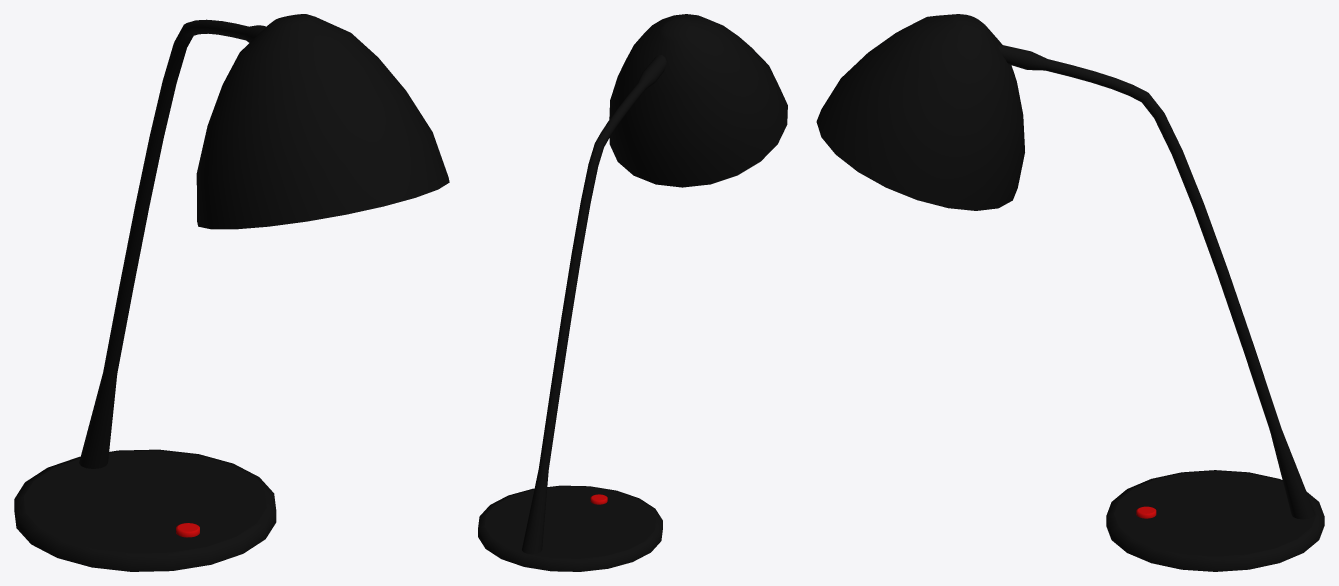
The model's file is Lamp.FBX.
The picture shows the model from 3 angles, left to right: view 1: azimuth 30°, elevation 25°; view 2: azimuth 150°, elevation 25°; view 3: azimuth 270°, elevation 25°; orthographic projection. The views are drawn at different scales.
Visible parts, largest first — view 1: Lamp; view 2: Lamp; view 3: Lamp.
Boxes of the visible parts, left/top/right/bottom form: Lamp: left=14, top=14, right=449, bottom=571; Lamp: left=478, top=14, right=787, bottom=571; Lamp: left=816, top=14, right=1324, bottom=571.
Bounding box in the file's own units: 13.85 × 35.55 × 32.24.
Materials: 2 (1 with a texture image).
